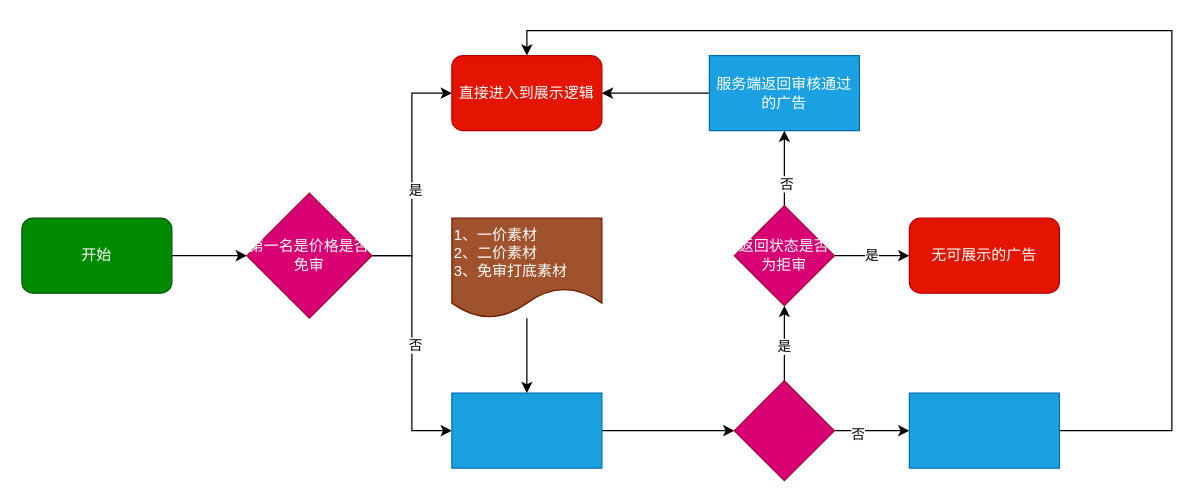
This 1204x503 diagram has some shape labels left out. The centre of each missing label's shape, as x and y in pixels:
客户端遍历可以用广告，获取免审广告中最优的一条去展示: (x=983, y=430)
是否响应成功: (x=783, y=430)
送审素材: (x=526, y=430)
